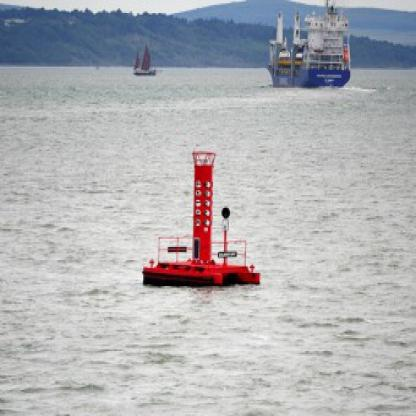buoy: (138, 140, 264, 294)
